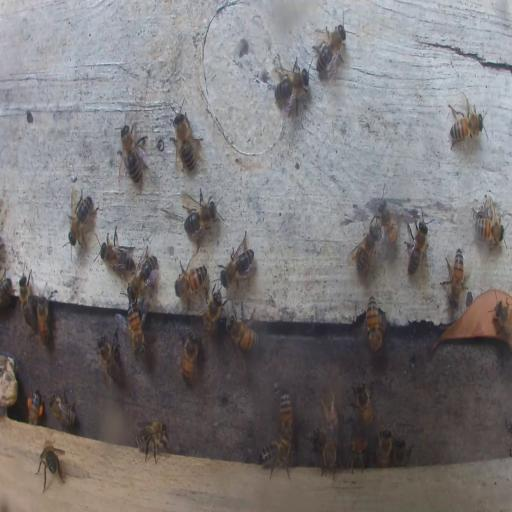nonpollenbee: (182, 182, 220, 246), (273, 53, 310, 112), (313, 22, 348, 82), (220, 233, 256, 290), (347, 219, 381, 276), (118, 123, 149, 185), (171, 110, 201, 173), (68, 189, 98, 248), (404, 210, 430, 277), (134, 420, 170, 466), (258, 437, 296, 480), (473, 199, 505, 248), (36, 438, 65, 492), (98, 228, 132, 274), (128, 252, 158, 303), (448, 104, 484, 145), (95, 333, 122, 384), (375, 193, 398, 247), (125, 304, 147, 360), (444, 248, 465, 305), (350, 378, 373, 430), (226, 313, 258, 350), (174, 264, 208, 297), (366, 297, 384, 354), (49, 395, 77, 431), (17, 269, 34, 328), (181, 331, 200, 383), (35, 294, 52, 351), (203, 289, 224, 333), (320, 383, 338, 431), (279, 390, 294, 444), (320, 436, 338, 479), (491, 301, 511, 338), (350, 429, 368, 470), (375, 425, 392, 467), (0, 275, 14, 310), (394, 436, 408, 464)
pollenbee: (27, 392, 43, 424)
